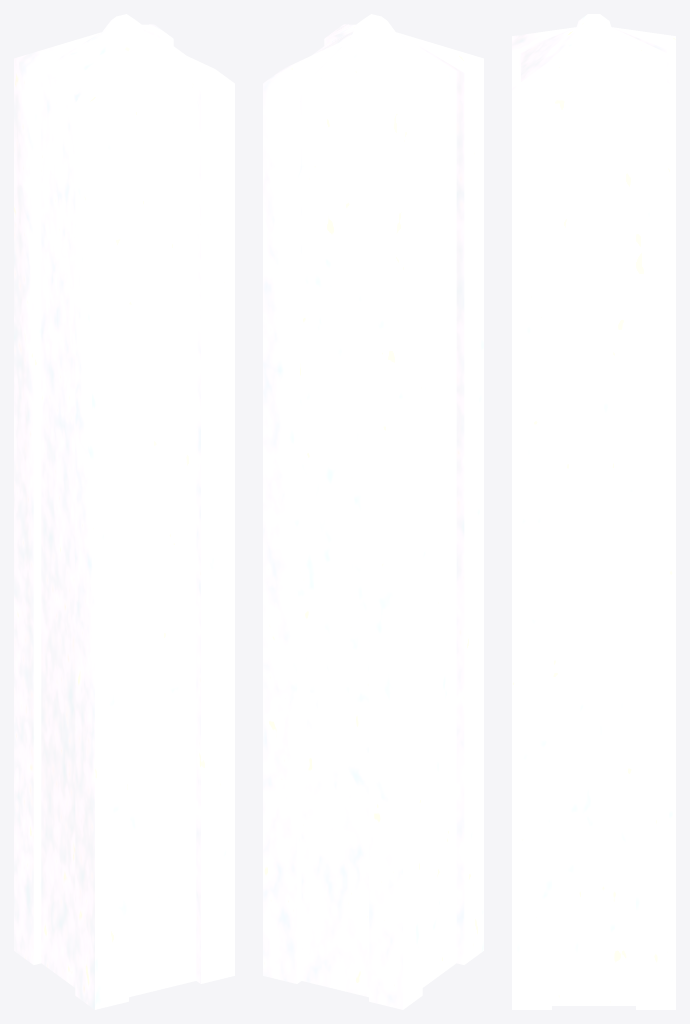
File: CA_006_iron_pillar_var5.glb
3 views of the same model, side by side, from view 1: azimuth 30°, elevation 25°; view 2: azimuth 150°, elevation 25°; view 3: azimuth 270°, elevation 25° (orthographic).
Visible parts, largest first — view 1: pillar; view 2: pillar; view 3: pillar.
Part boxes in pixels (x1=…): pillar: x1=14, y1=14, x2=234, y2=1009; pillar: x1=263, y1=14, x2=483, y2=1009; pillar: x1=512, y1=14, x2=675, y2=1009.
Bounding box in the file's own units: 0.75 × 4.85 × 0.75.
Materials: 1 (1 with a texture image).
